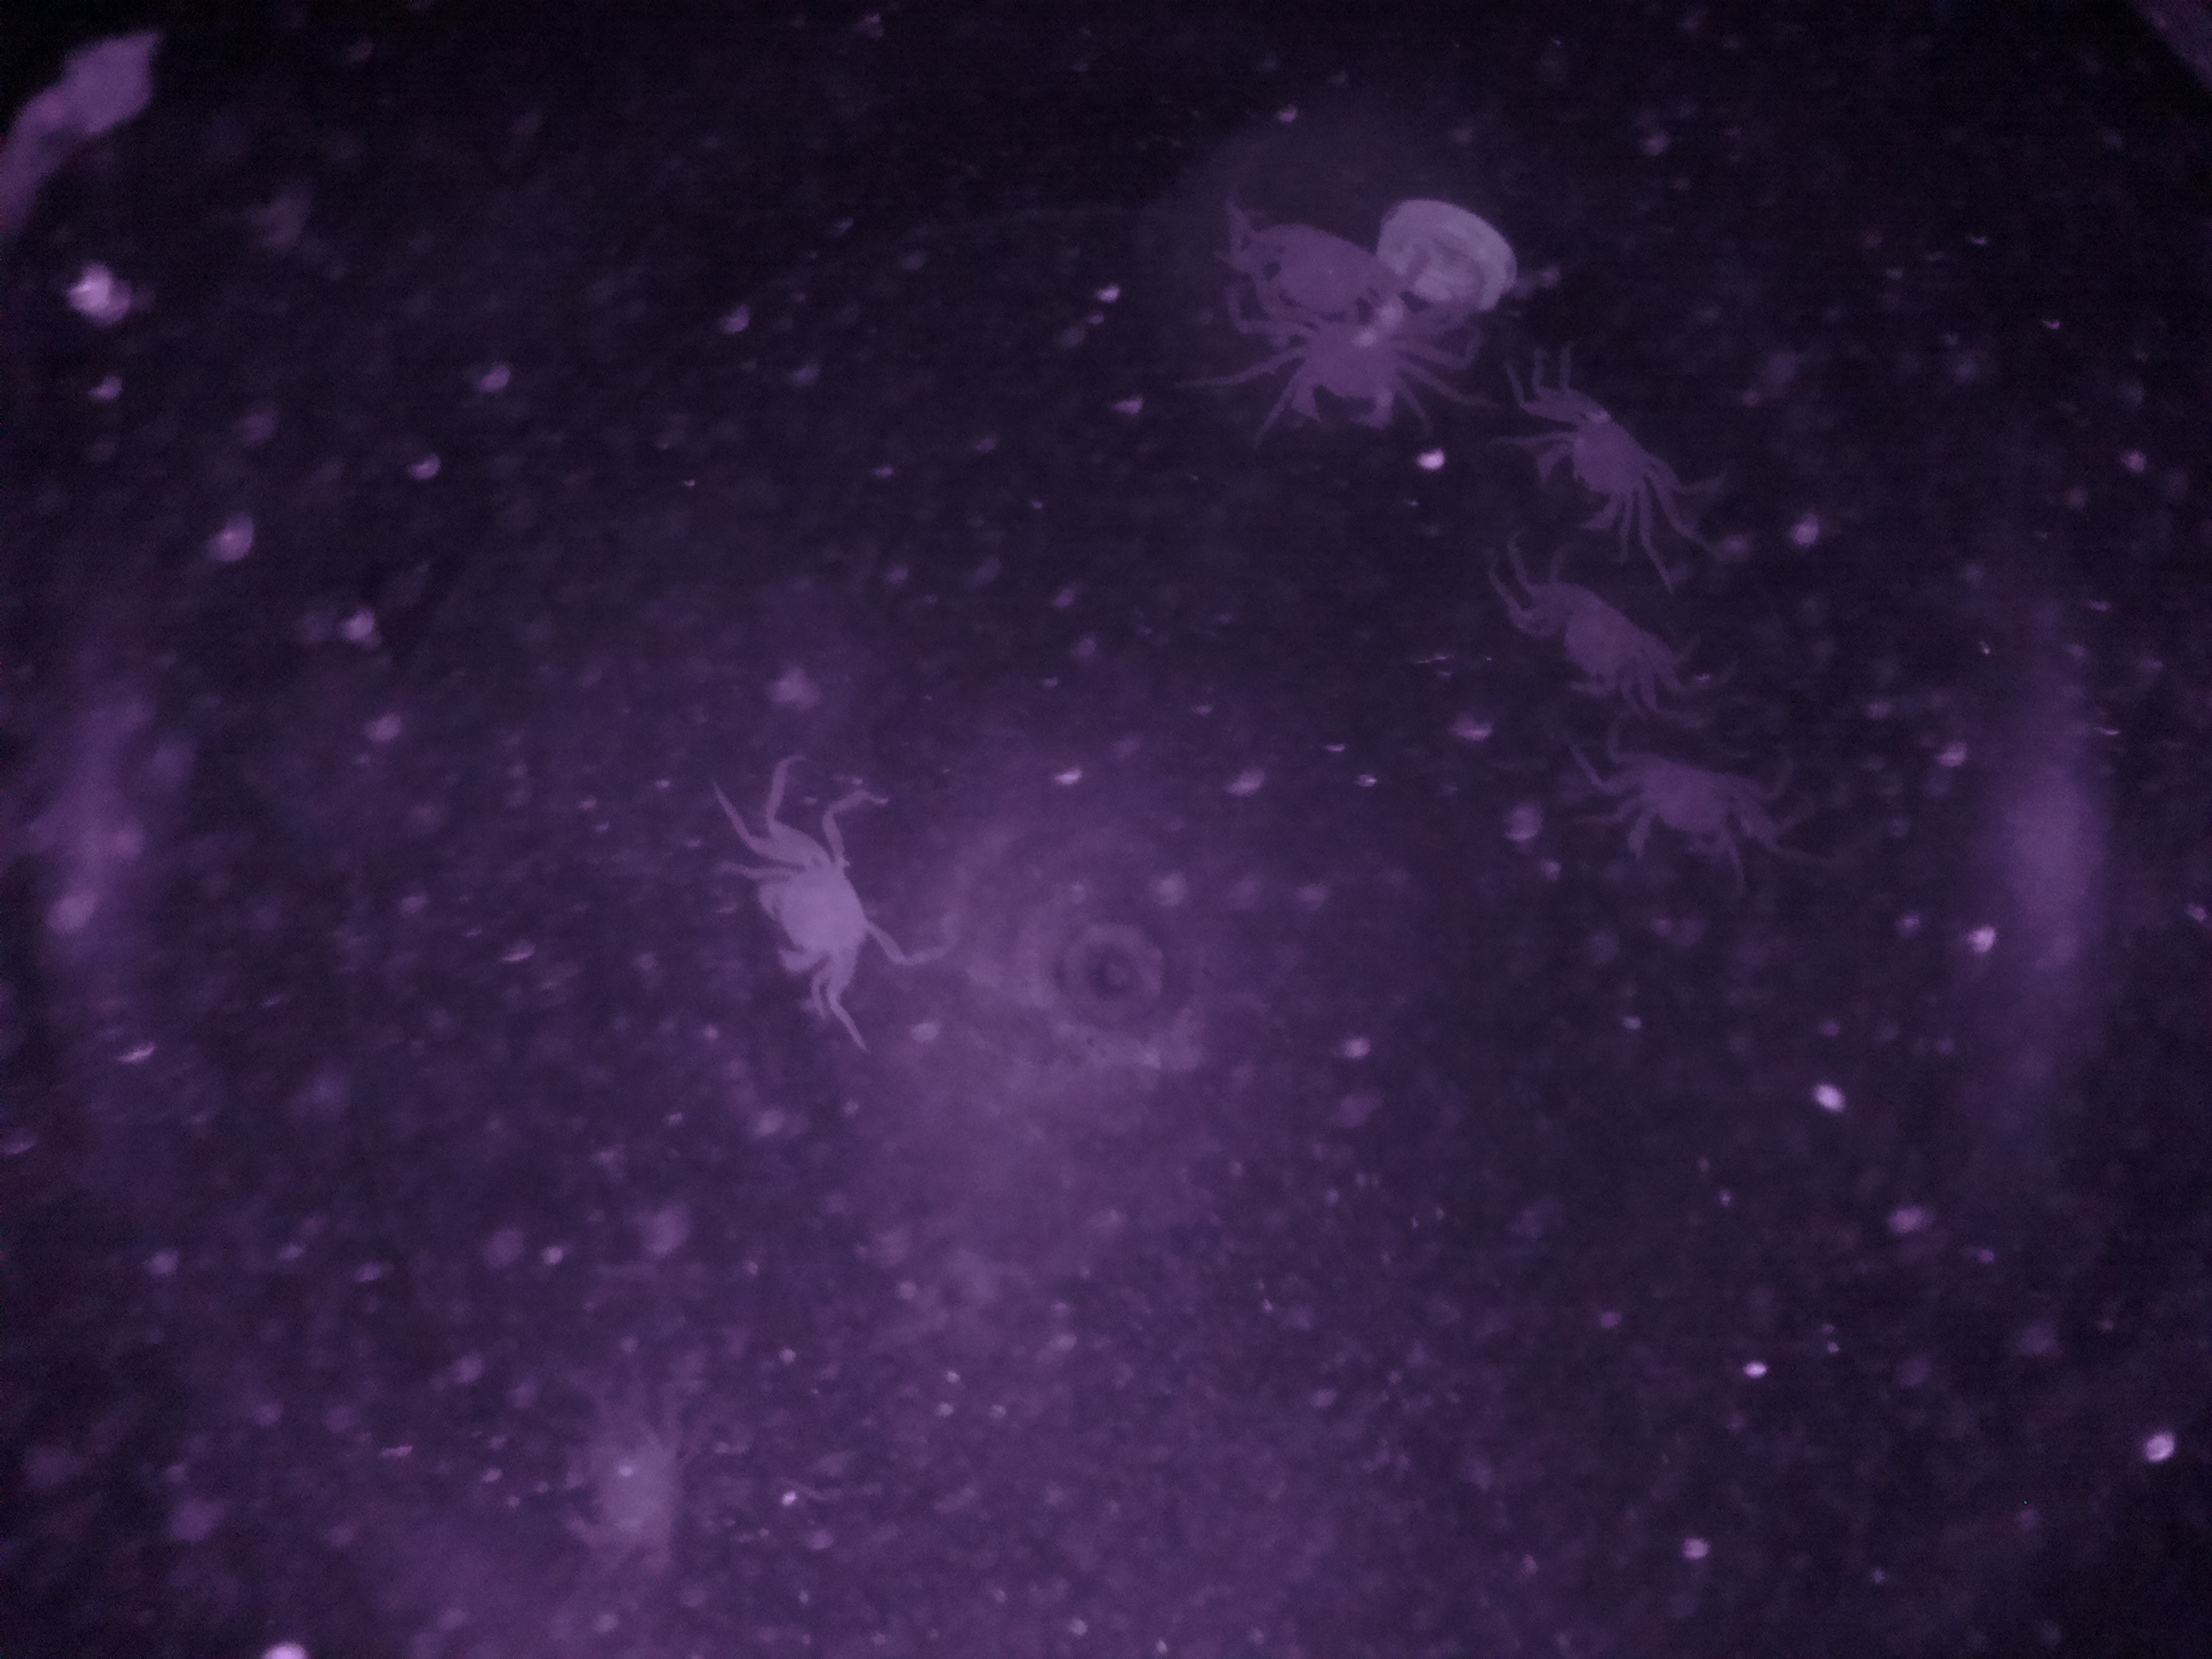Crab: (740, 788, 918, 1047), (1505, 361, 1714, 554), (1493, 575, 1714, 727), (1571, 730, 1810, 859)
